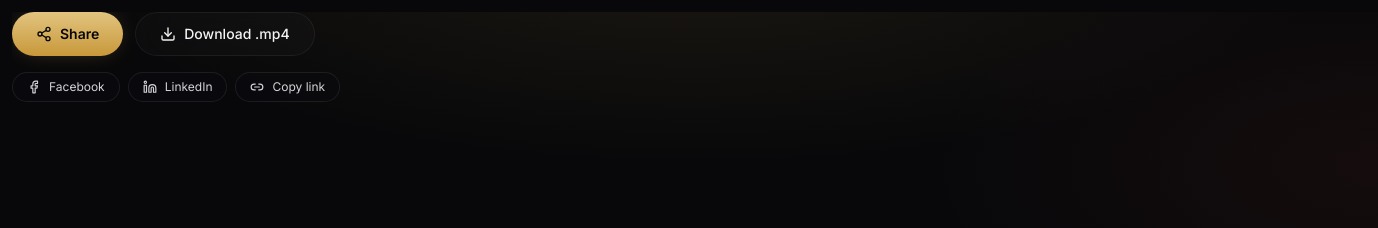
Test: <ShareBar /> — Share › surfaces a share failure honestly
Click the button "Share". click: (68, 34)
box: [12,12,123,56]
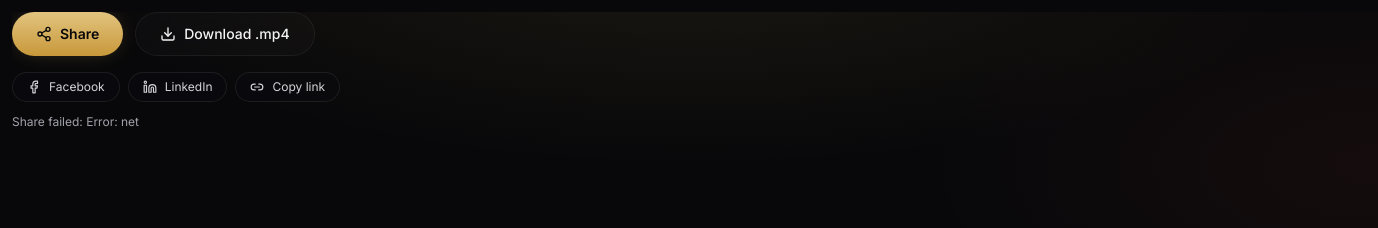
Result: the text "Share failed: Error: net" is shown at [12,114,139,129]
